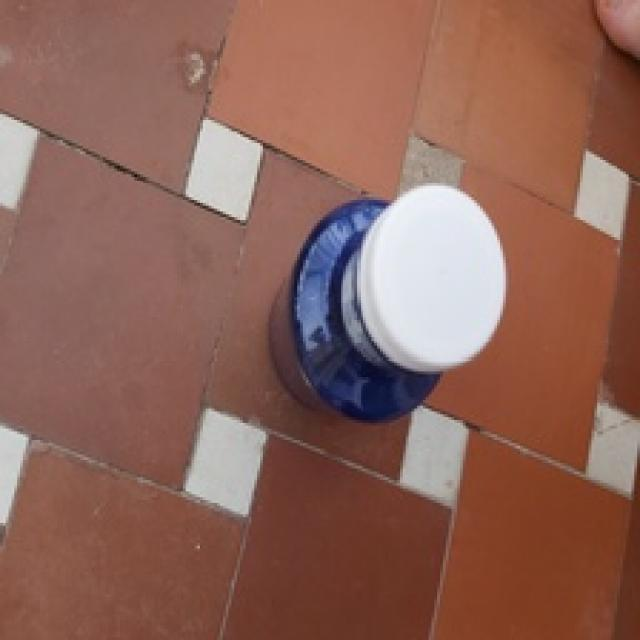Plastic: (270, 184, 504, 424)
